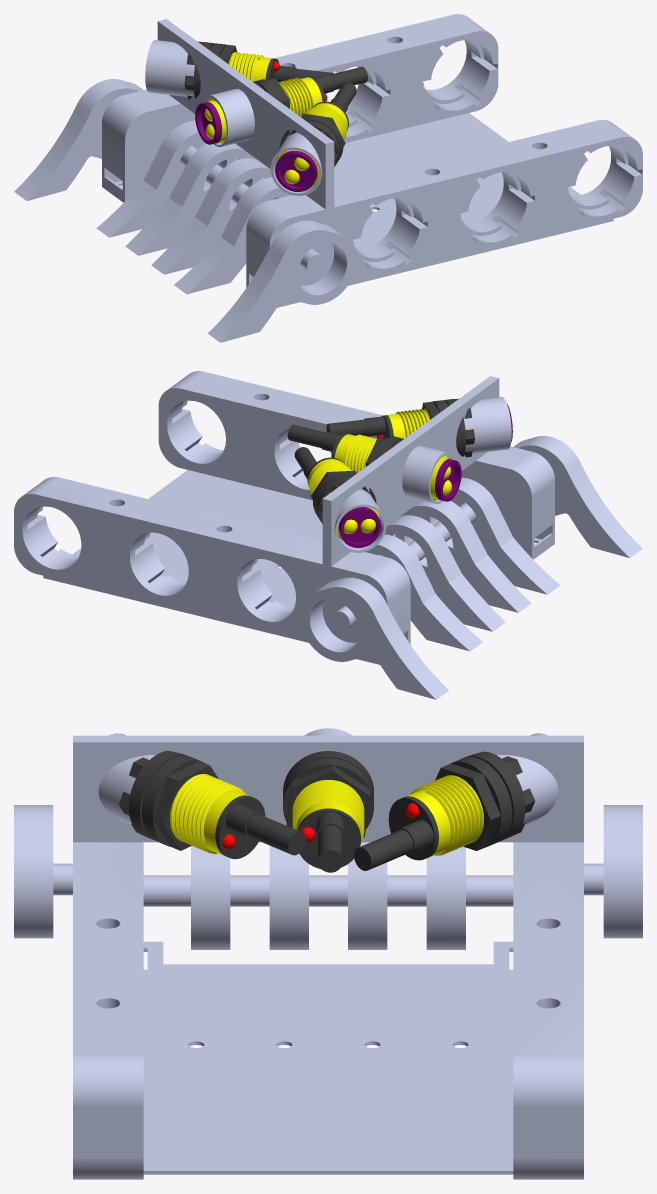
File: sumo-2025-preview.glb
3 renders of one model, top to bottom at view 1: azimuth 30°, elevation 25°; view 2: azimuth 150°, elevation 25°; view 3: azimuth 270°, elevation 25°, orthographic. The views are drawn at different scales.
Visible parts, largest first — view 1: NAUO1; view 2: NAUO1; view 3: NAUO1.
Part boxes in pixels (box(x1,y1,x2,y2)): NAUO1: box(14, 14, 642, 342); NAUO1: box(14, 371, 642, 699); NAUO1: box(14, 728, 642, 1179).
Bounding box in the file's own units: 0.1977 × 0.066 × 0.16.
1 material, 1 textured.
